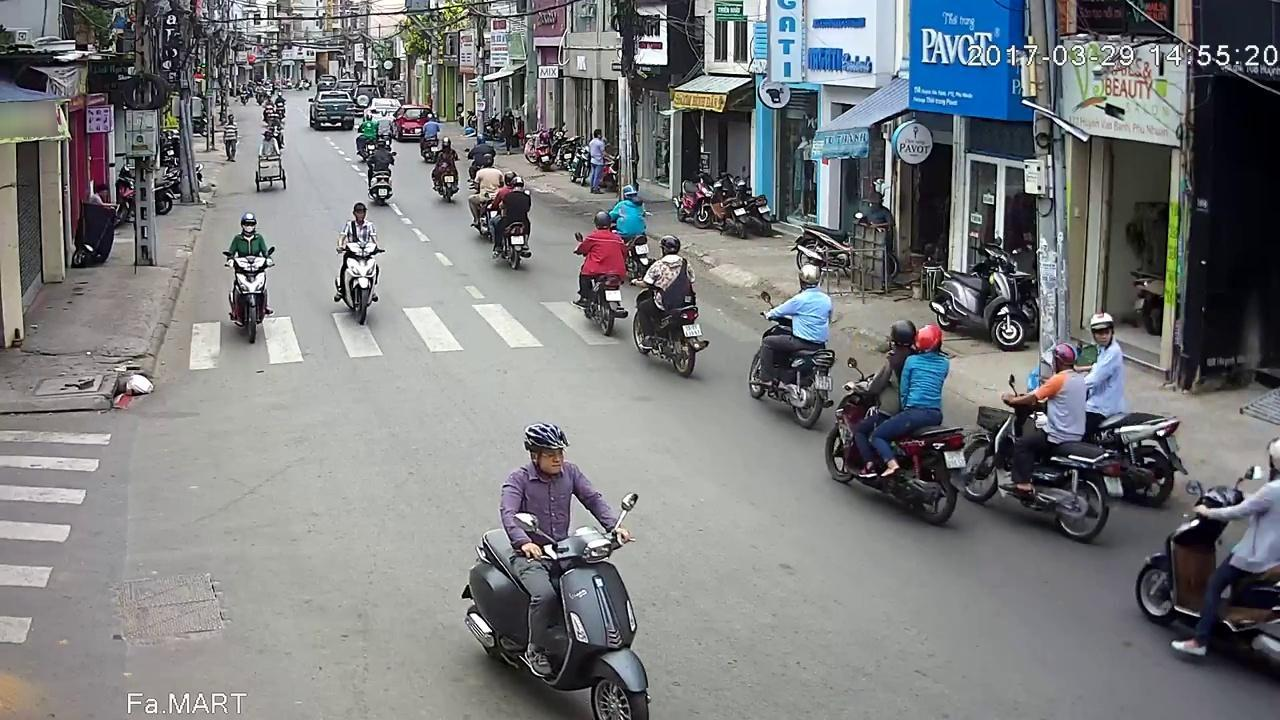xe dap: (253, 65, 288, 126)
xe hoi: (394, 101, 439, 139)
xe may: (467, 389, 653, 720), (1134, 403, 1280, 720), (964, 348, 1136, 547), (825, 321, 966, 525), (750, 268, 837, 435), (630, 229, 707, 374), (573, 210, 629, 335), (331, 202, 383, 327), (225, 212, 275, 342), (611, 184, 657, 281), (493, 177, 538, 276), (469, 155, 500, 241), (431, 137, 462, 207), (367, 143, 398, 209), (469, 138, 497, 182), (356, 111, 376, 160)
